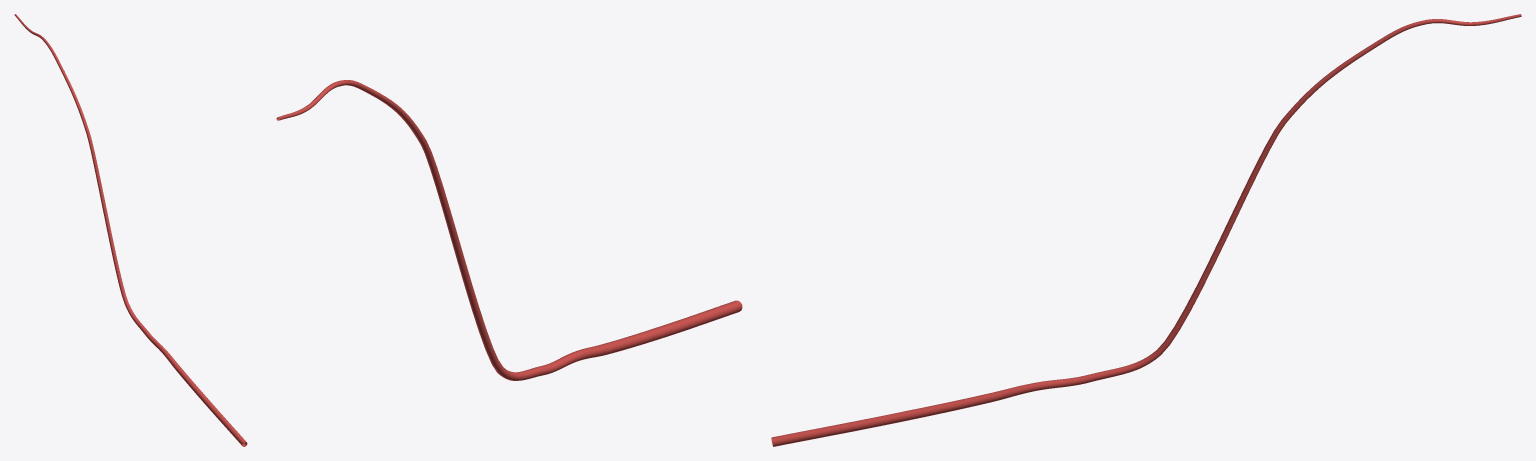
3 renders of one model, left to right at view 1: azimuth 30°, elevation 25°; view 2: azimuth 150°, elevation 25°; view 3: azimuth 270°, elevation 25°, orthographic. The views are drawn at different scales.
Parts seen in each view (by area): view 1: 骶正中动脉; view 2: 骶正中动脉; view 3: 骶正中动脉.
Boxes of the visible parts, left/top/right/bottom form: 骶正中动脉: left=14, top=14, right=247, bottom=446; 骶正中动脉: left=276, top=80, right=742, bottom=380; 骶正中动脉: left=771, top=14, right=1521, bottom=446.
Bounding box in the file's own units: 0.00295 × 0.1438 × 0.2261.
